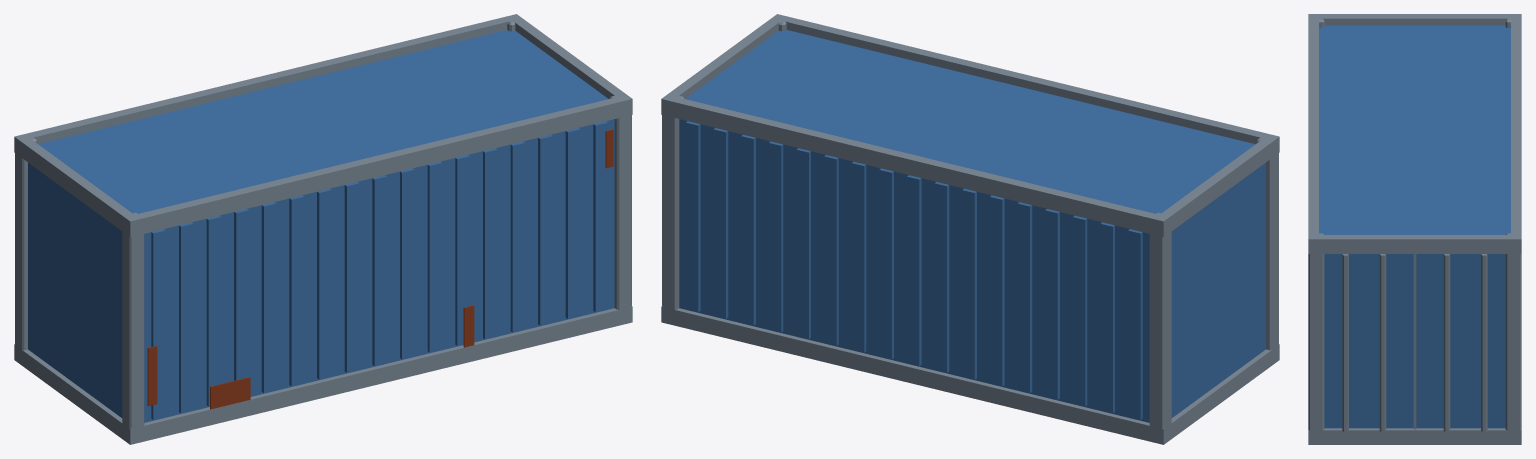
File: prop_container.fbx
3 renders of one model, left to right at view 1: azimuth 30°, elevation 25°; view 2: azimuth 150°, elevation 25°; view 3: azimuth 270°, elevation 25°, orthographic. The views are drawn at different scales.
Visible parts, largest first — view 1: prop_container; view 2: prop_container; view 3: prop_container.
Boxes of the visible parts, x1,y1,x2,y2 form: prop_container: (14,14,632,444); prop_container: (661,14,1279,444); prop_container: (1308,14,1521,444).
Bounding box in the file's own units: 20.15 × 8.5 × 8.
